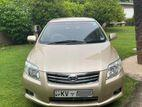car: (23, 17, 125, 107)
